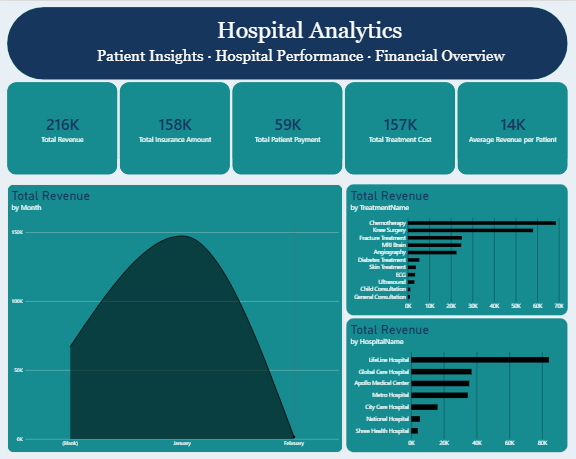

The page's visual inventory and layout, read from the dashboard file:
{"tool":"powerbi","page":{"name":"Financial Dashboard","canvas":[2220,1780],"ordinal":5},"visuals":[{"type":"shape","box":[30,23.3,2156.7,280],"z":0},{"type":"textbox","box":[836.7,60,720,103.3],"z":1},{"type":"textbox","box":[377.1,175.7,1810,97.1],"z":2},{"type":"cardVisual","fields":{"Data":["Medical Transactions.Total Revenue","Medical Transactions.Total Insurance Amount","Medical Transactions.Total Patient Payment","Medical Transactions.Total Treatment Cost","Medical Transactions.Average Revenue per Patient"]},"box":[28.9,313.2,2157.9,357.9],"z":3},{"type":"clusteredBarChart","fields":{"Category":["Treatments.TreatmentName"],"Y":["Medical Transactions.Total Revenue"]},"box":[1332.9,702.9,854.3,505.7],"z":4},{"type":"clusteredBarChart","fields":{"Category":["Hospitals.HospitalName"],"Y":["Medical Transactions.Total Revenue"]},"box":[1332.9,1220,852.9,517.1],"z":5},{"type":"lineChart","fields":{"Category":["Medical Transactions.AdmissionDate.Variation.Date Hierarchy.Month"],"Y":["Medical Transactions.Total Revenue"]},"box":[30,702.9,1292.9,1034.3],"z":6}]}

Visuals, with their boxes in screenshot pixels (x1, y1, x2, y2), scaled from the page's 2220x1780 canvas onto the 576x459 screenshot:
shape: select_region(8, 6, 567, 78)
textbox: select_region(217, 15, 404, 42)
textbox: select_region(98, 45, 567, 70)
cardVisual - Medical Transactions.Total Revenue x Medical Transactions.Total Insurance Amount: select_region(7, 81, 567, 173)
clusteredBarChart - Treatments.TreatmentName x Medical Transactions.Total Revenue: select_region(346, 181, 567, 312)
clusteredBarChart - Hospitals.HospitalName x Medical Transactions.Total Revenue: select_region(346, 315, 567, 448)
lineChart - Medical Transactions.AdmissionDate.Variation.Date Hierarchy.Month x Medical Transactions.Total Revenue: select_region(8, 181, 343, 448)
